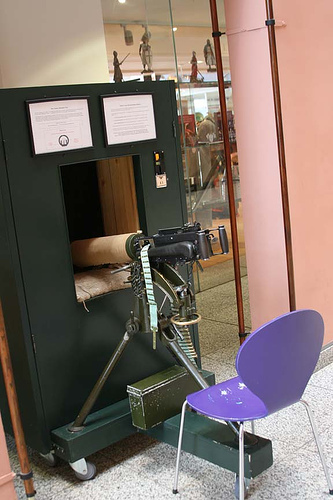rifle: (52, 174, 288, 420)
